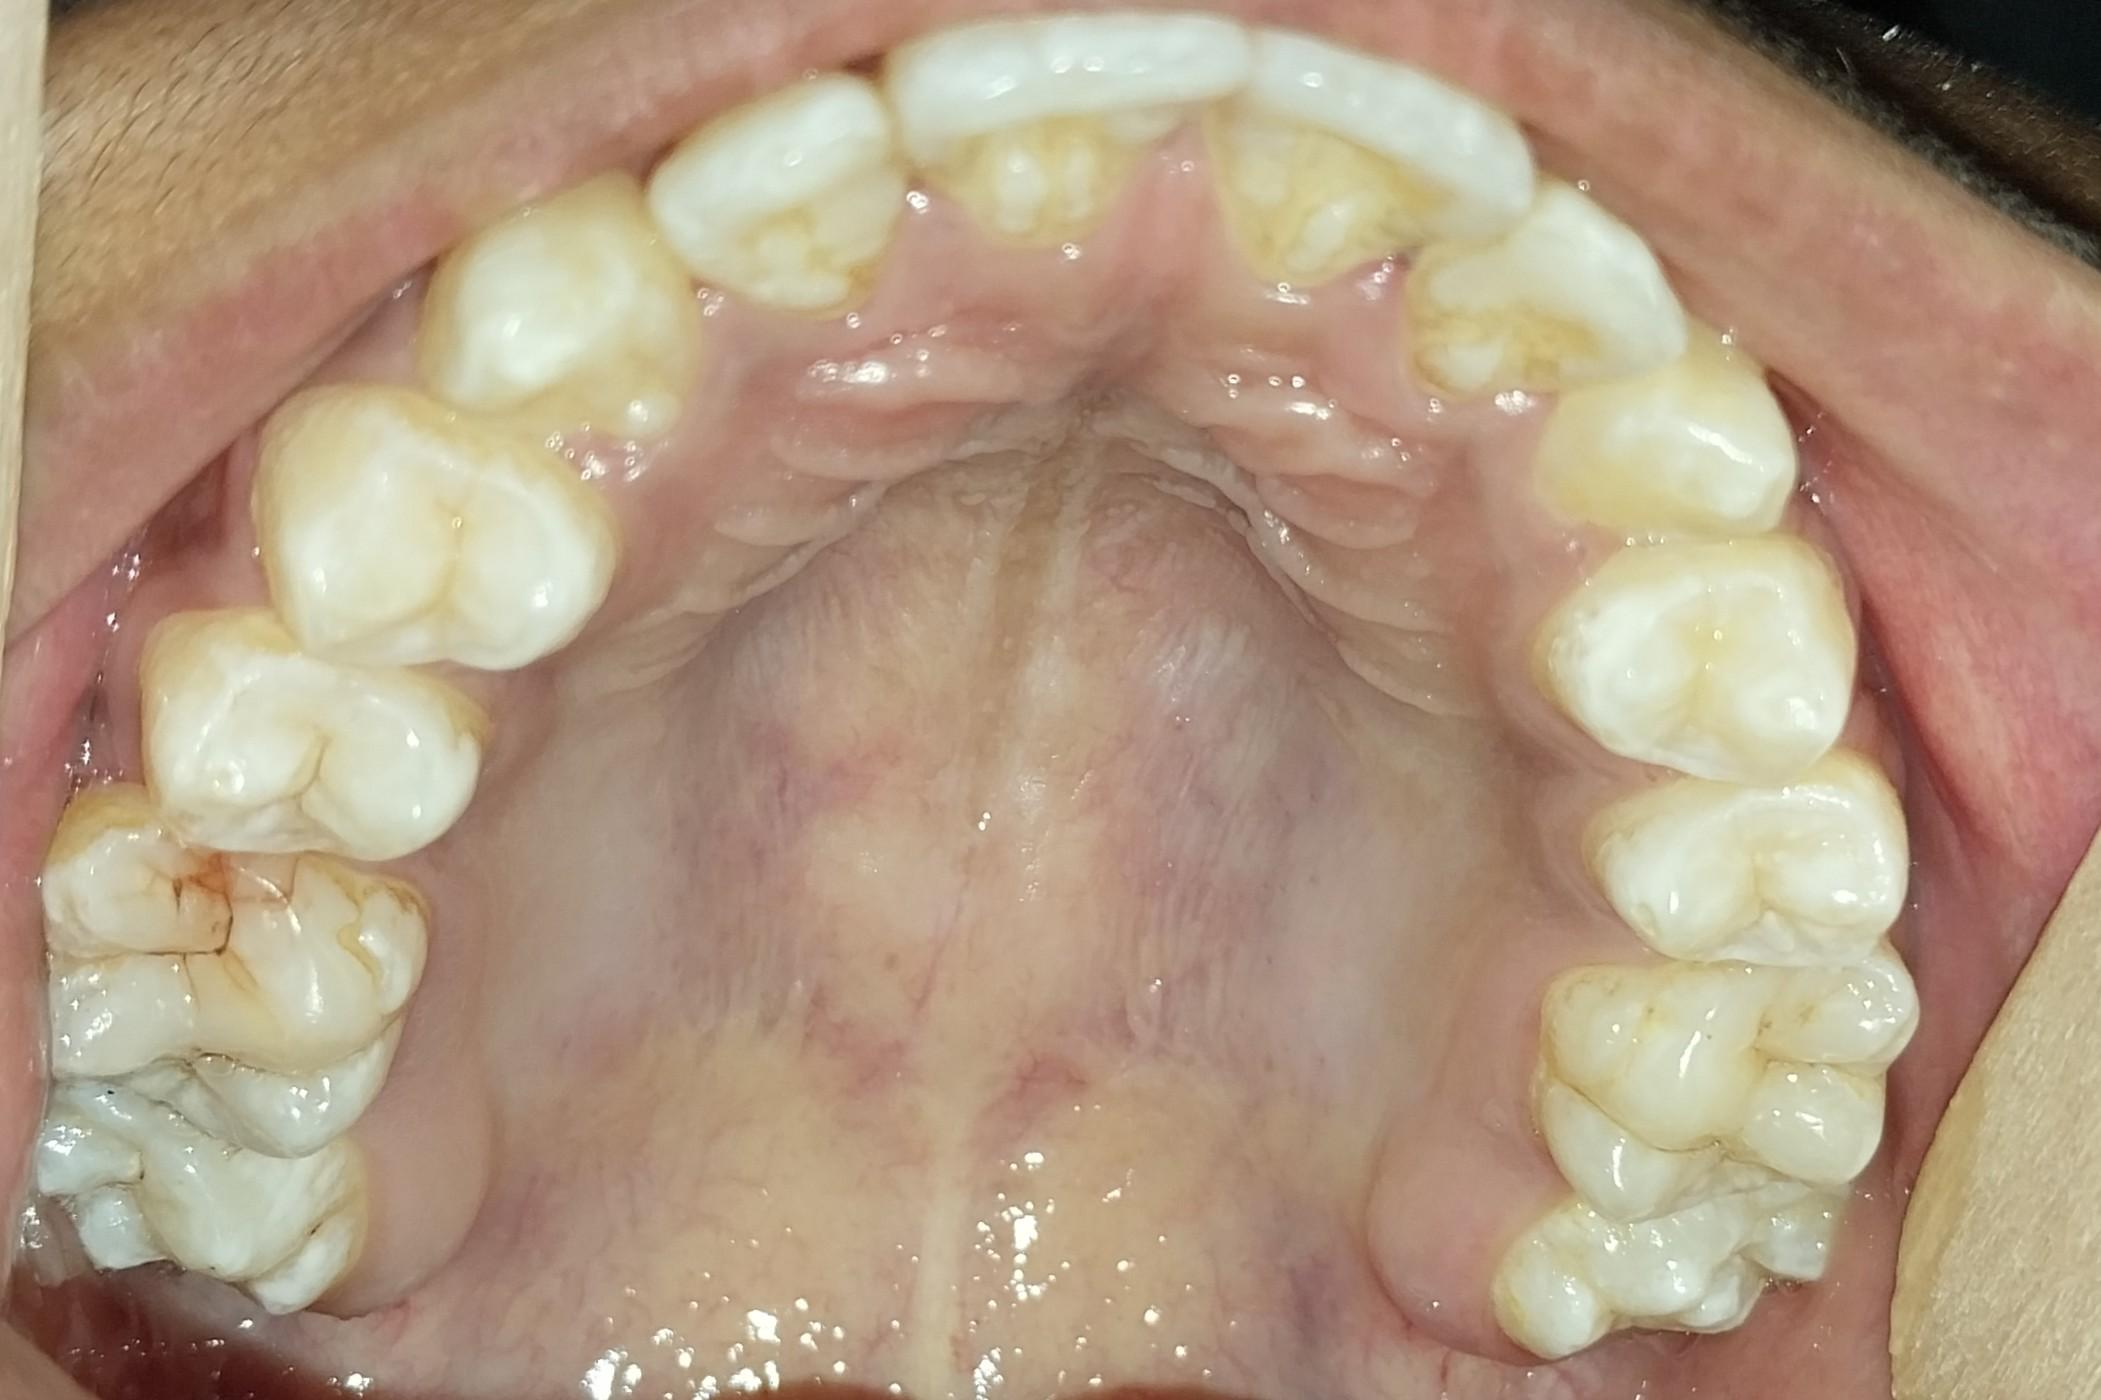D: (40, 800, 423, 1155)
